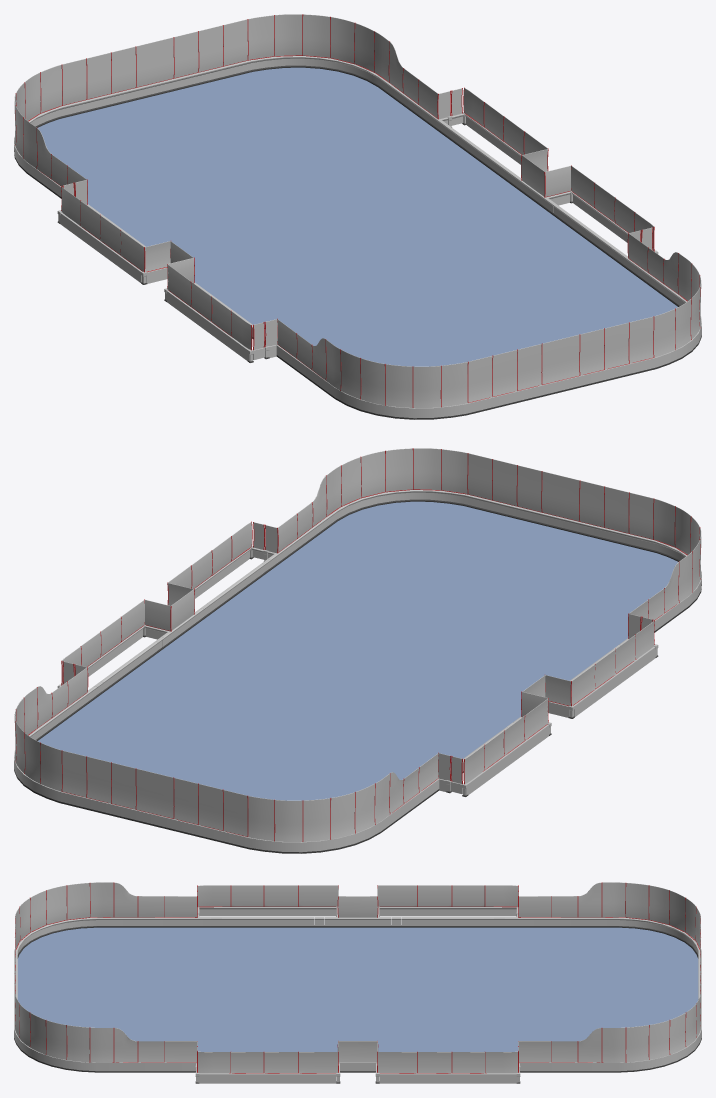
The model's file is HockeyField.fbx.
3 views of the same model, one above another, from view 1: azimuth 30°, elevation 25°; view 2: azimuth 150°, elevation 25°; view 3: azimuth 270°, elevation 25° (orthographic). The views are drawn at different scales.
Parts seen in each view (by area): view 1: Plane, Cube.001; view 2: Plane, Cube.001; view 3: Plane, Cube.001.
Boxes of the visible parts, x1=… form: Plane: x1=14, y1=56, x2=701, y2=419; Cube.001: x1=14, y1=14, x2=701, y2=407; Plane: x1=14, y1=490, x2=701, y2=853; Cube.001: x1=14, y1=448, x2=701, y2=841; Plane: x1=14, y1=906, x2=701, y2=1083; Cube.001: x1=15, y1=882, x2=700, y2=1073.
Size of the model in its own units: 4960 by 613 by 8574.
